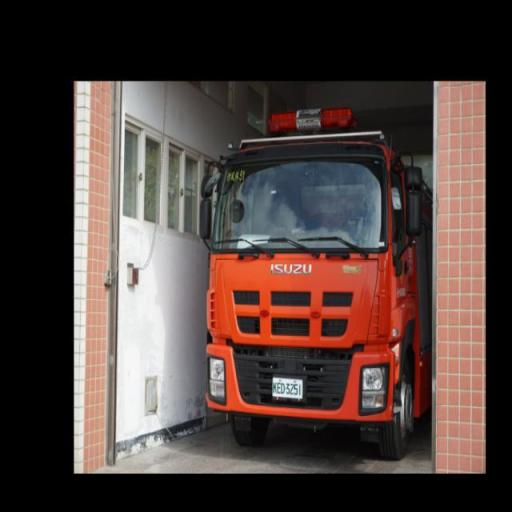fire truck: (173, 105, 408, 471)
